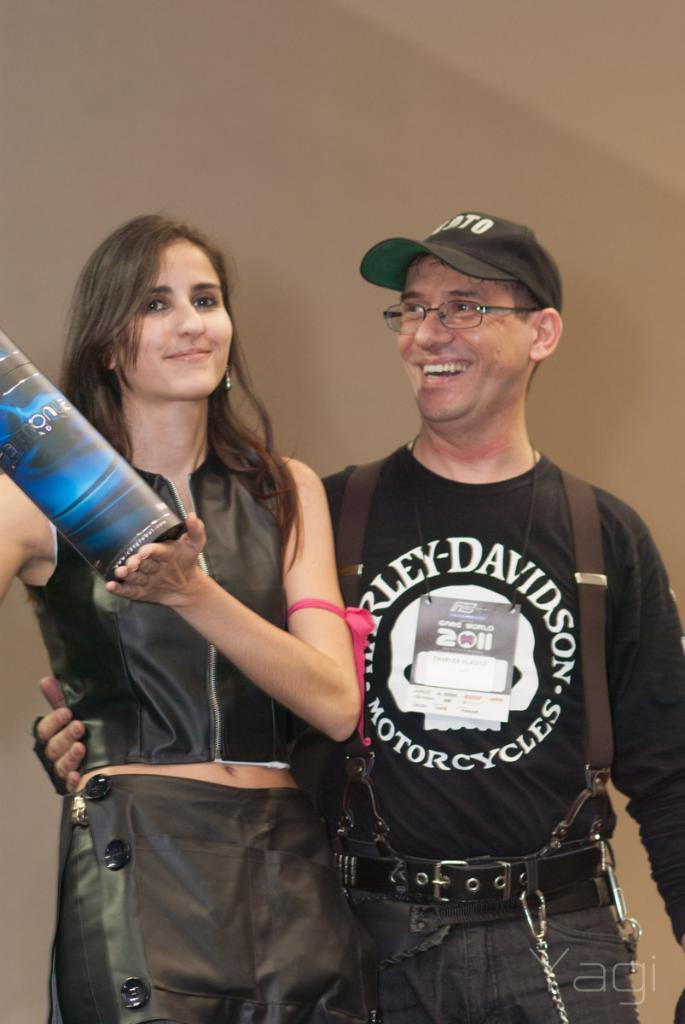Hat: (360, 203, 564, 329)
